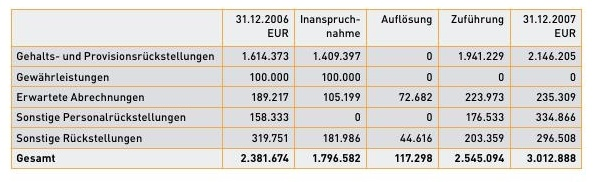table: (0, 0, 596, 182)
